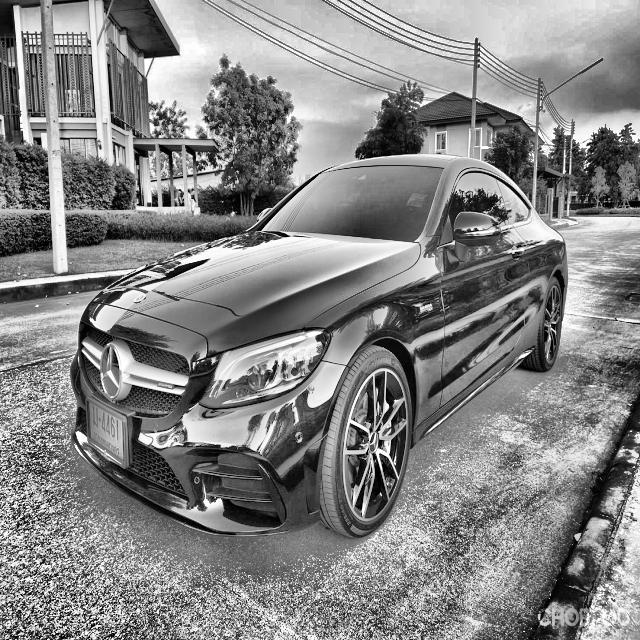license-plate: (85, 394, 128, 470)
